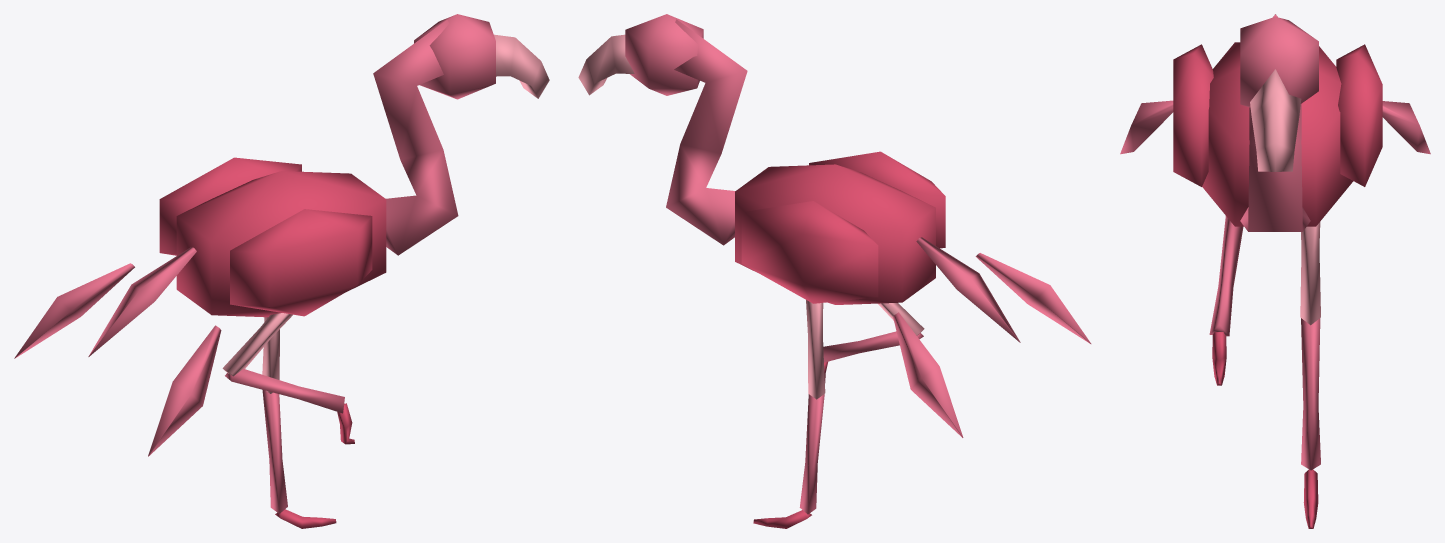
Rendered from amb.flamingo.lod2.glb.
3 views of the same model, side by side, from view 1: azimuth 30°, elevation 25°; view 2: azimuth 150°, elevation 25°; view 3: azimuth 270°, elevation 25° (orthographic). The views are drawn at different scales.
Parts seen in each view (by area): view 1: body, wingR, neck, head, wingL, handR, handL, tail, shinL, shinR, legR, legL; view 2: body, wingL, neck, head, wingR, handL, handR, tail, shinL, legL, shinR; view 3: body, head, wingL, wingR, neck, shinL, shinR, legL, handR, handL, footL, footR.
Boxes of the visible parts, x1,y1,x2,y2 form: body: [176, 171, 386, 317]; wingR: [230, 209, 372, 316]; neck: [373, 20, 458, 255]; head: [414, 14, 549, 99]; wingL: [159, 157, 301, 255]; handR: [148, 325, 221, 456]; handL: [14, 263, 134, 358]; tail: [88, 247, 196, 356]; shinL: [262, 390, 287, 513]; shinR: [225, 369, 344, 413]; legR: [222, 313, 292, 376]; legL: [262, 317, 279, 393]; body: [735, 164, 935, 304]; wingL: [741, 201, 878, 303]; neck: [666, 19, 747, 245]; head: [578, 14, 703, 95]; wingR: [809, 151, 945, 248]; handL: [893, 312, 963, 437]; handR: [975, 253, 1091, 343]; tail: [916, 237, 1020, 342]; shinL: [799, 394, 824, 514]; legL: [806, 300, 825, 399]; shinR: [823, 331, 923, 362]; body: [1202, 42, 1353, 226]; head: [1240, 16, 1318, 171]; wingL: [1336, 44, 1382, 186]; wingR: [1173, 44, 1213, 186]; neck: [1240, 14, 1310, 231]; shinL: [1301, 318, 1320, 470]; shinR: [1209, 216, 1243, 336]; legL: [1300, 222, 1320, 325]; handR: [1120, 100, 1173, 154]; handL: [1382, 101, 1430, 154]; footL: [1303, 469, 1318, 528]; footR: [1212, 332, 1226, 385].
Bounding box in the file's own units: 1.57 × 1.58 × 0.7773.
